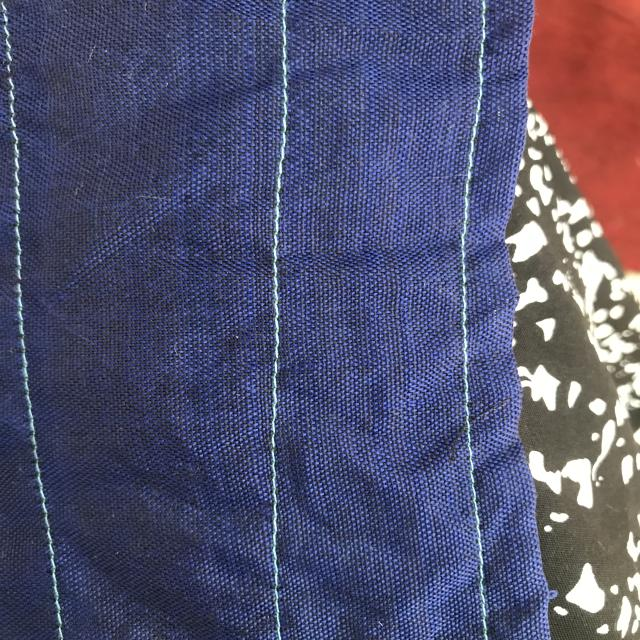good: (18, 353, 68, 602), (266, 418, 284, 574)
